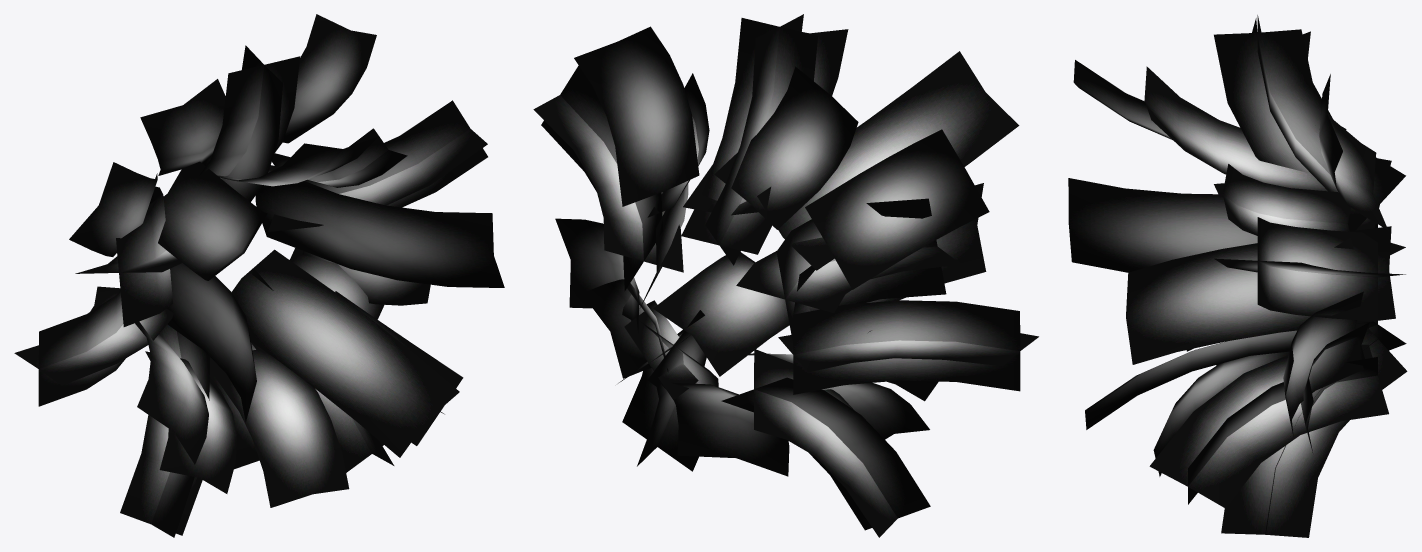
The model's file is vfx_kurp_0053.dae.
3 renders of one model, left to right at view 1: azimuth 30°, elevation 25°; view 2: azimuth 150°, elevation 25°; view 3: azimuth 270°, elevation 25°, orthographic. The views are drawn at different scales.
Visible parts, largest first — view 1: vfx_kurp_0053; view 2: vfx_kurp_0053; view 3: vfx_kurp_0053.
Part boxes in pixels (x1,y1,x2,y2): vfx_kurp_0053: (14,14,504,537); vfx_kurp_0053: (533,14,1038,537); vfx_kurp_0053: (1068,15,1407,537).
Size of the model in its own units: 8.55 by 5.22 by 8.22.
Materials: 1 (1 with a texture image).
